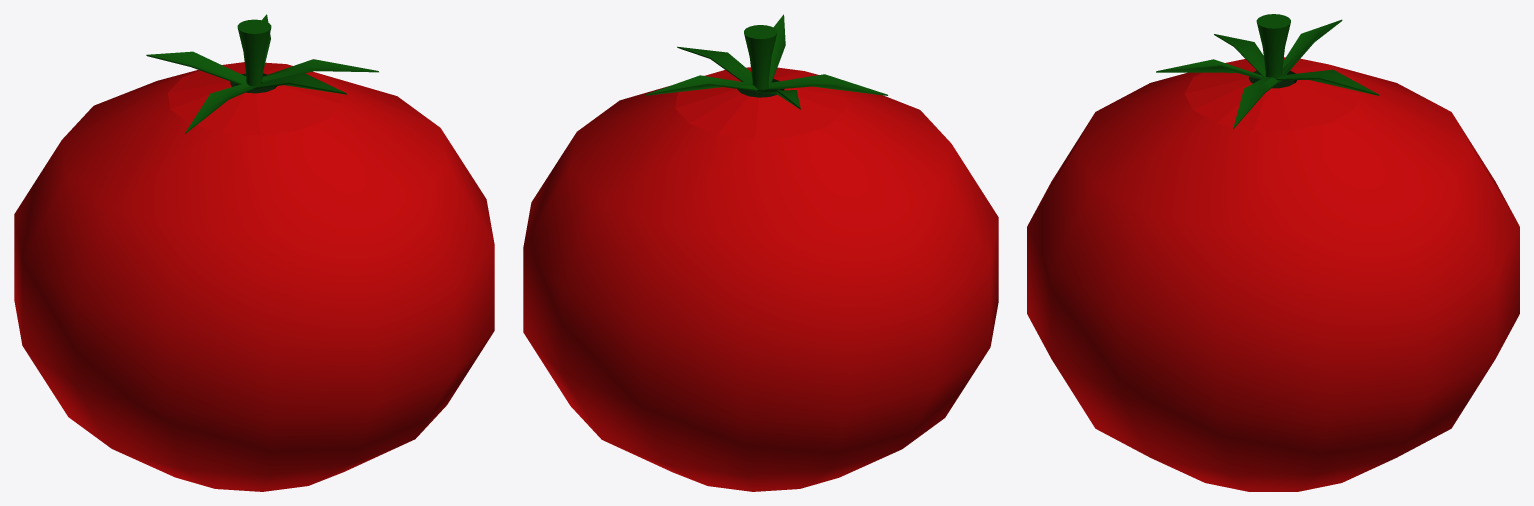
The model's file is tomatooo.fbx.
3 views of the same model, side by side, from view 1: azimuth 30°, elevation 25°; view 2: azimuth 150°, elevation 25°; view 3: azimuth 270°, elevation 25° (orthographic). The views are drawn at different scales.
Visible parts, largest first — view 1: Cylinder001; view 2: Cylinder001; view 3: Cylinder001.
Part boxes in pixels (x1,y1,x2,y2): Cylinder001: [14, 14, 494, 491]; Cylinder001: [523, 14, 998, 491]; Cylinder001: [1027, 14, 1519, 491].
Size of the model in its own units: 46.15 by 46.78 by 47.34.
